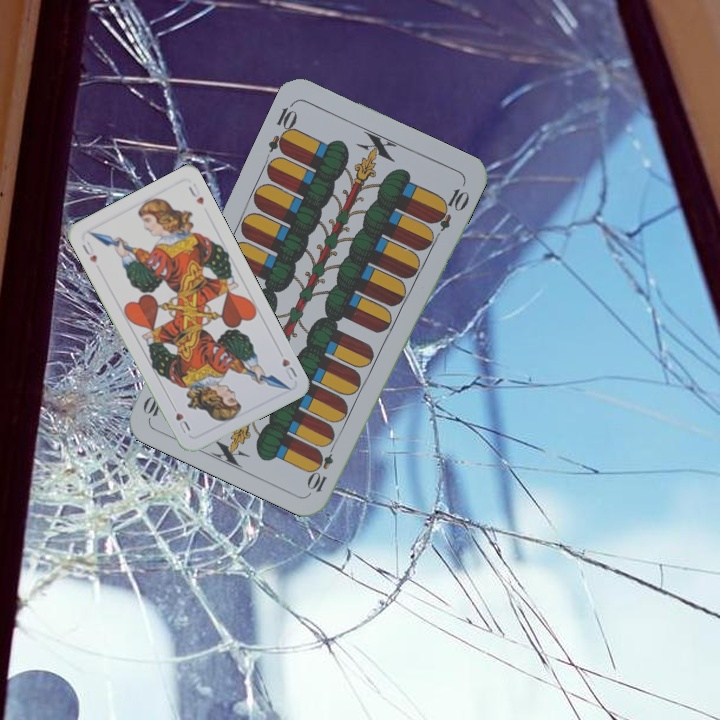E10: (264, 98, 300, 157), (305, 437, 339, 495)
HU: (278, 354, 300, 383), (78, 237, 99, 266)
